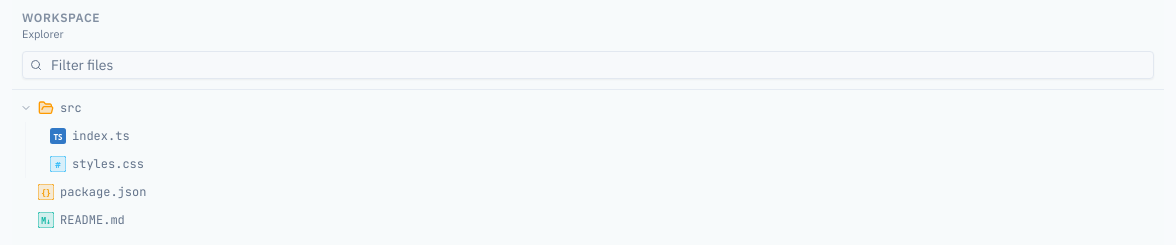
Test: FileExplorer › renders language glyphs beside files and opens/closes folders on click
The image size is (1176, 245).
Expected: the icon with test id "file-icon-typescript" is shown, [50,128,66,144]
Expected: the icon with test id "file-icon-css" is shown, [50,156,66,172]
# Select a file
Click the list item "index.ts": click(101, 136) [12,122,1164,150]
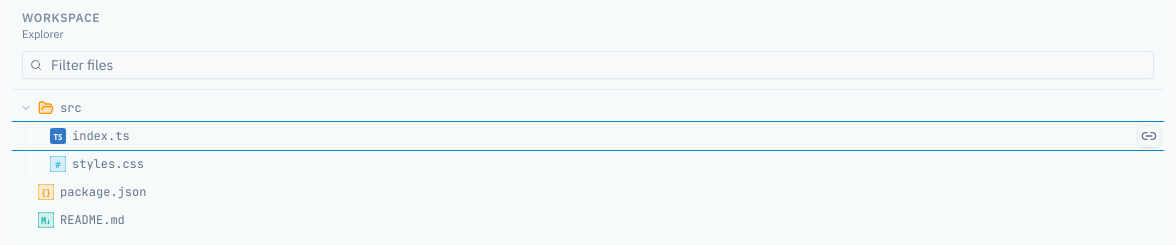
# Click folder to collapse
Click the list item "src": click(26, 108) [12,94,1164,122]
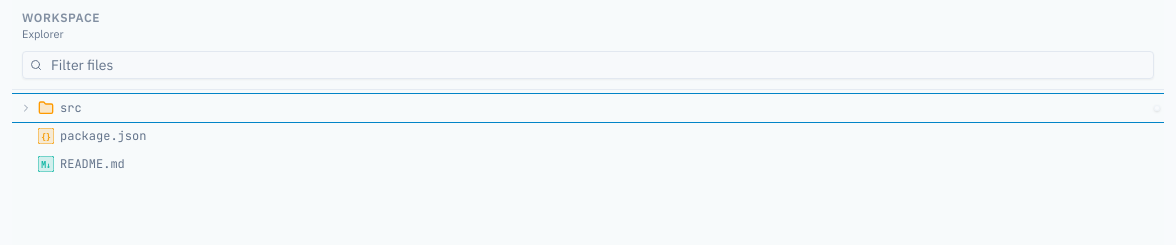
Now the list item "index.ts" is gone
# Click again to expand
Click the list item "src": click(26, 108) [12,94,1164,122]
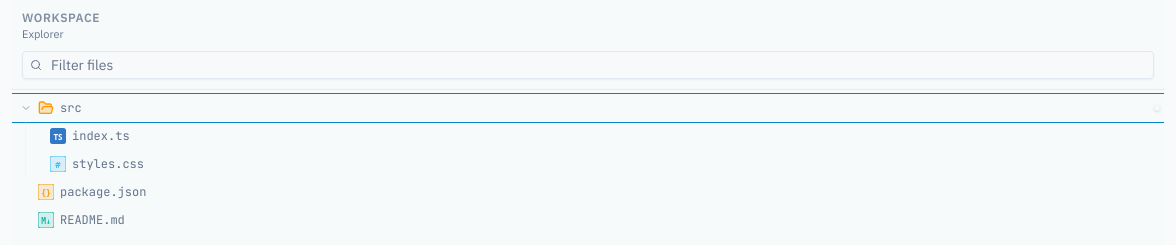
Now the list item "index.ts" is shown, box [12,122,1164,150]
